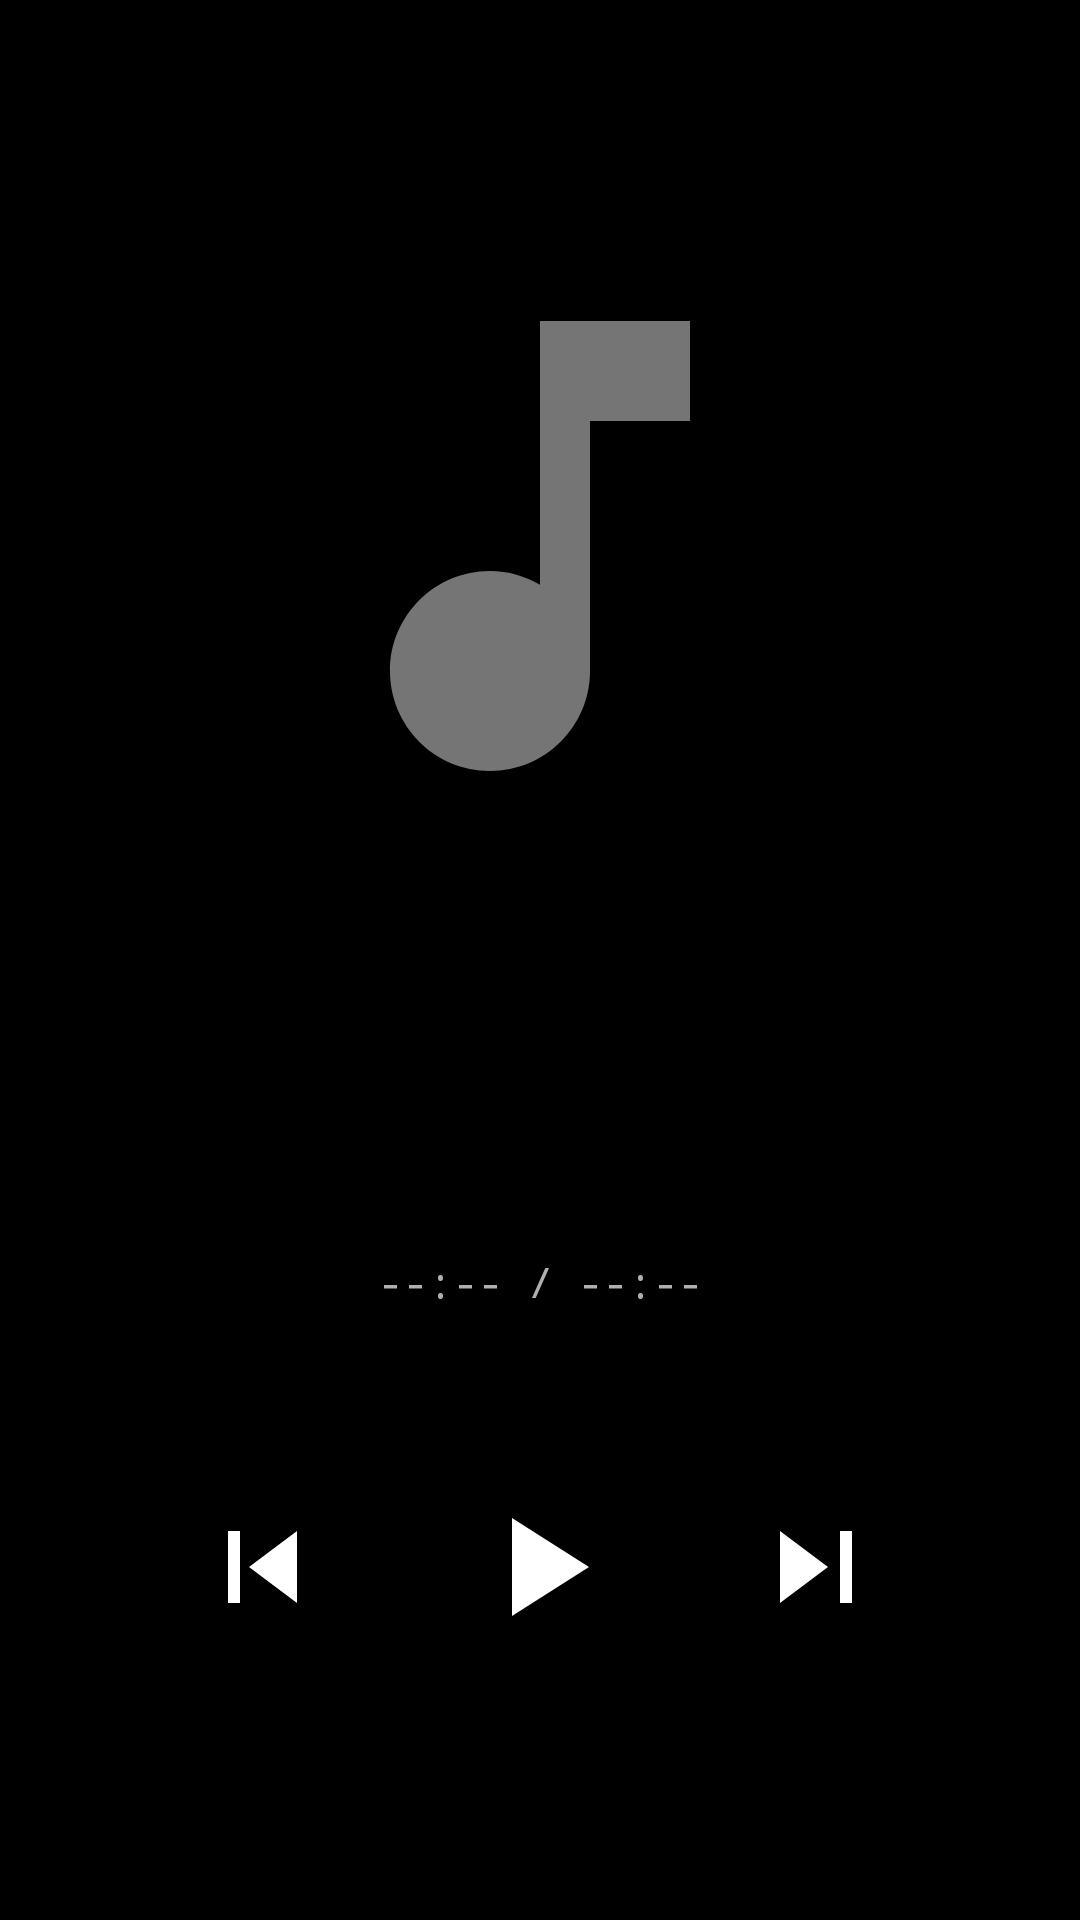

Screen size 1080px x 1920px. Icon name, then its box in pixels as region(x1, y1, x2, y2):
Next track: region(780, 1531, 852, 1603)
Play/Pause: region(512, 1518, 589, 1616)
Previous track: region(228, 1531, 297, 1603)
